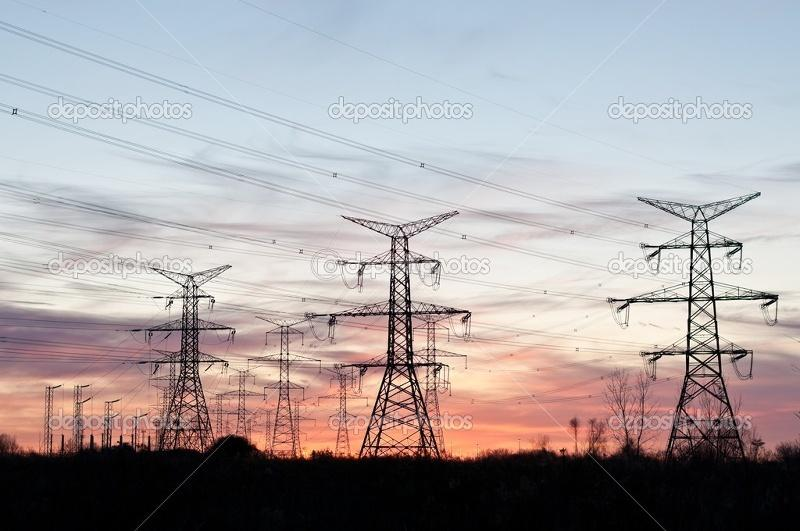power_tower: (619, 191, 774, 460), (340, 219, 452, 459), (141, 262, 224, 450), (247, 304, 307, 443)
